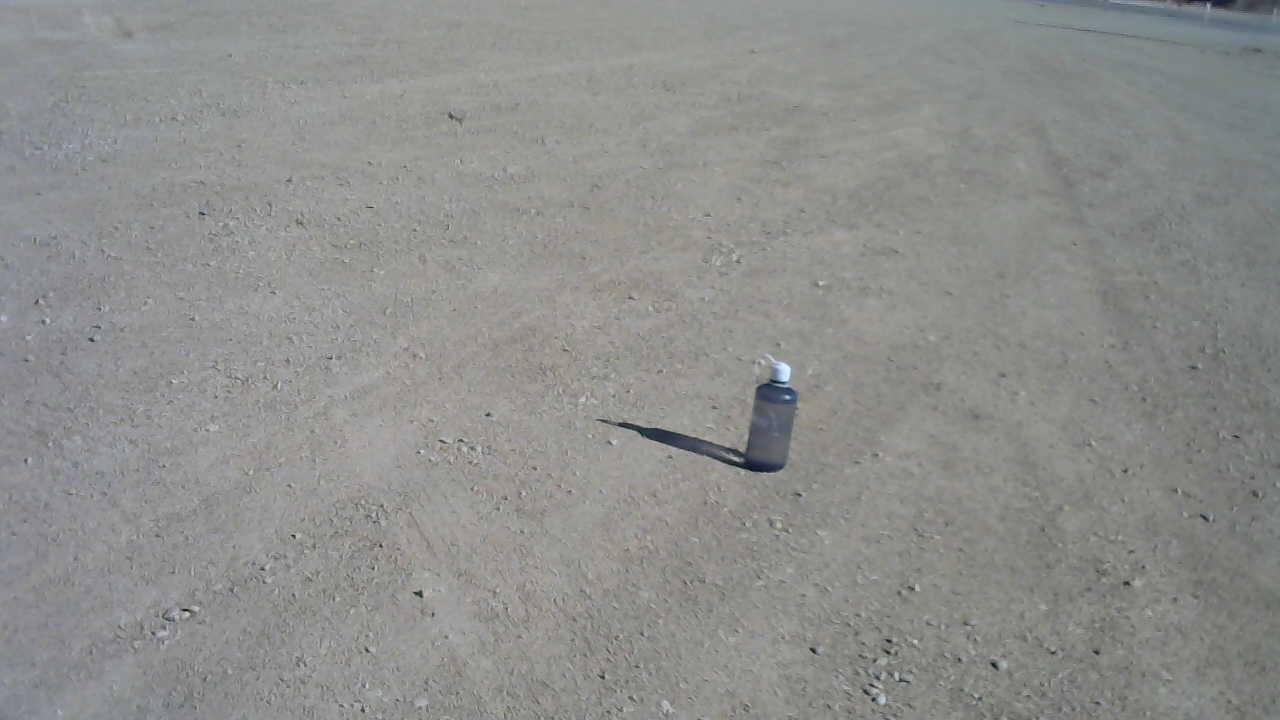bottle: (742, 345, 797, 476)
